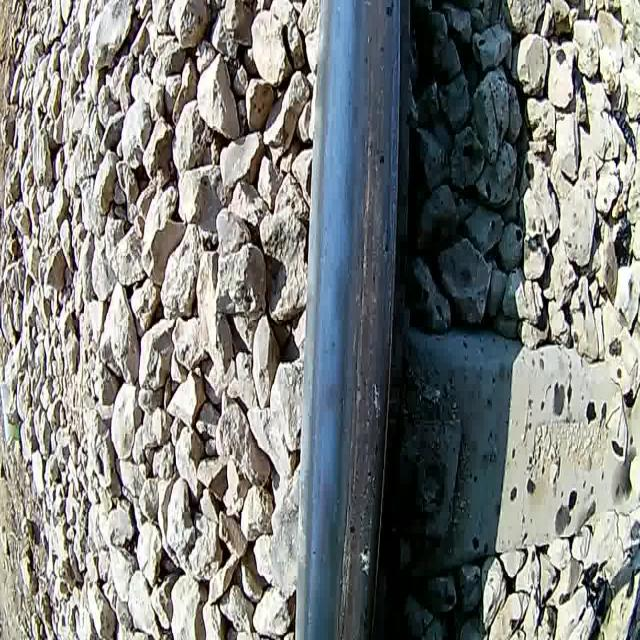Grooves: (333, 28, 377, 640)
